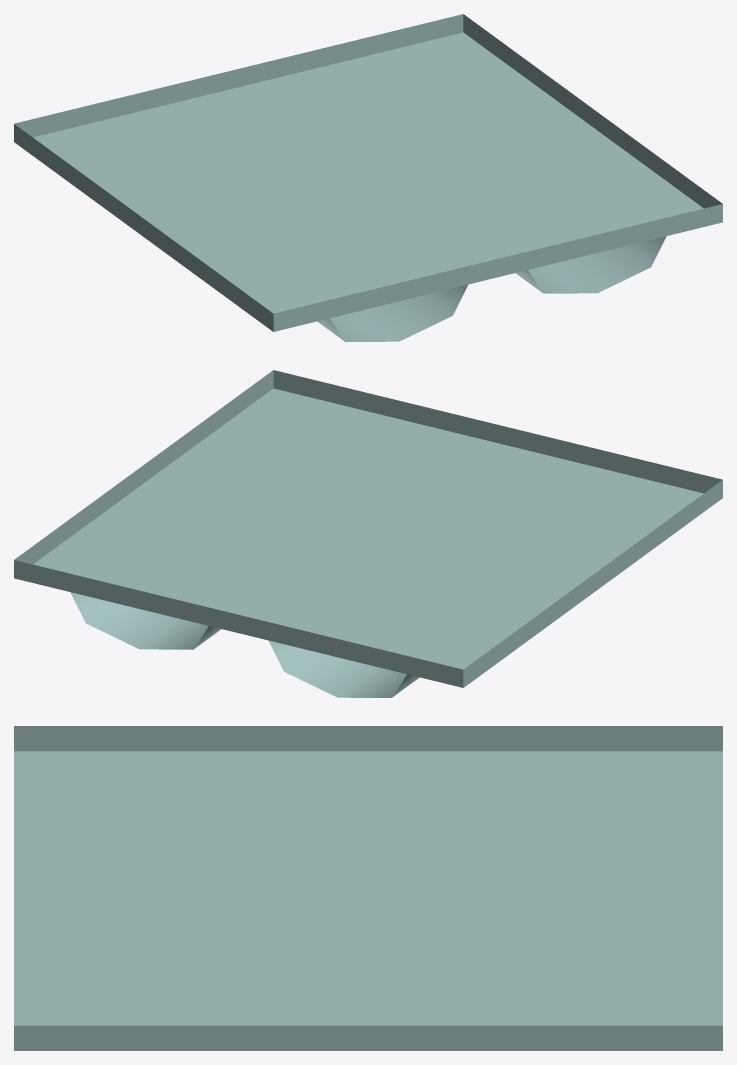
Rendered from BCeilPipes.fbx.
The picture shows the model from 3 angles, top to bottom: view 1: azimuth 30°, elevation 25°; view 2: azimuth 150°, elevation 25°; view 3: azimuth 270°, elevation 25°; orthographic projection. The views are drawn at different scales.
Parts seen in each view (by area): view 1: BCeilPipes; view 2: BCeilPipes; view 3: BCeilPipes.
Part boxes in pixels (left/top/right/bottom): BCeilPipes: left=14, top=14, right=722, bottom=341; BCeilPipes: left=14, top=370, right=722, bottom=697; BCeilPipes: left=14, top=726, right=722, bottom=1050.
Size of the model in its own units: 400 by 50 by 400.
